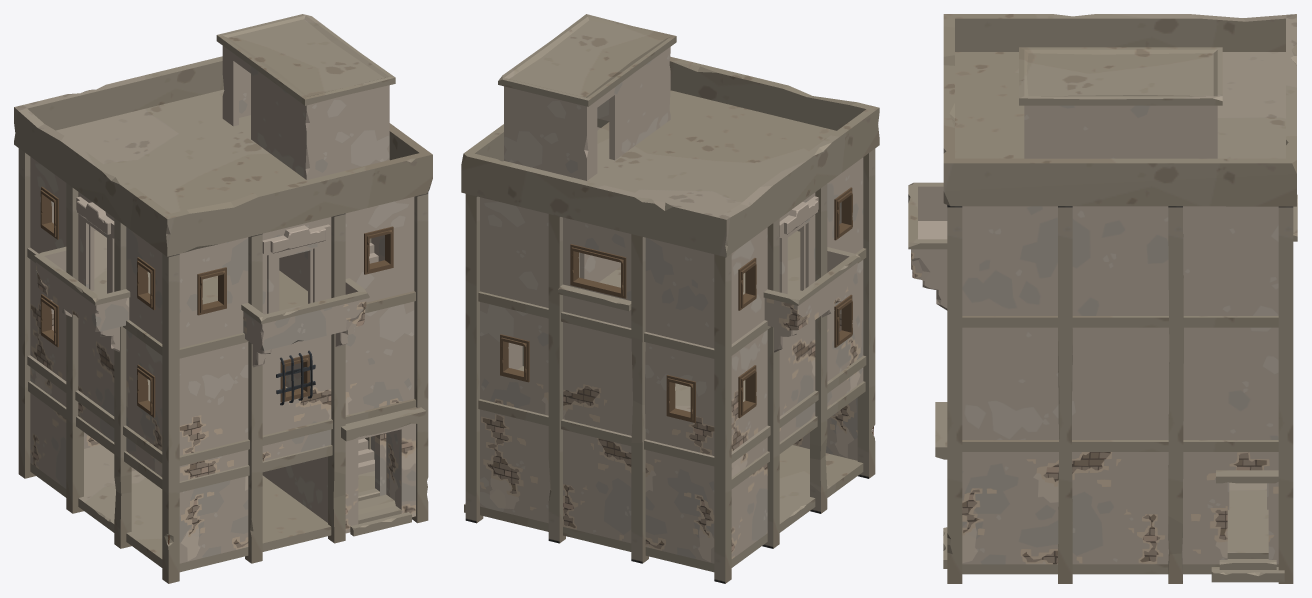
The model's file is SM_Bld_Shop_05.glb.
3 renders of one model, left to right at view 1: azimuth 30°, elevation 25°; view 2: azimuth 150°, elevation 25°; view 3: azimuth 270°, elevation 25°, orthographic. The views are drawn at different scales.
Parts seen in each view (by area): view 1: SM_Bld_Shop_05; view 2: SM_Bld_Shop_05; view 3: SM_Bld_Shop_05.
Boxes of the visible parts, left/top/right/bottom form: SM_Bld_Shop_05: left=14, top=14, right=432, bottom=583; SM_Bld_Shop_05: left=461, top=14, right=879, bottom=583; SM_Bld_Shop_05: left=908, top=14, right=1297, bottom=583.
Size of the model in its own units: 10.68 by 14.54 by 10.58.
Materials: 1 (1 with a texture image).
